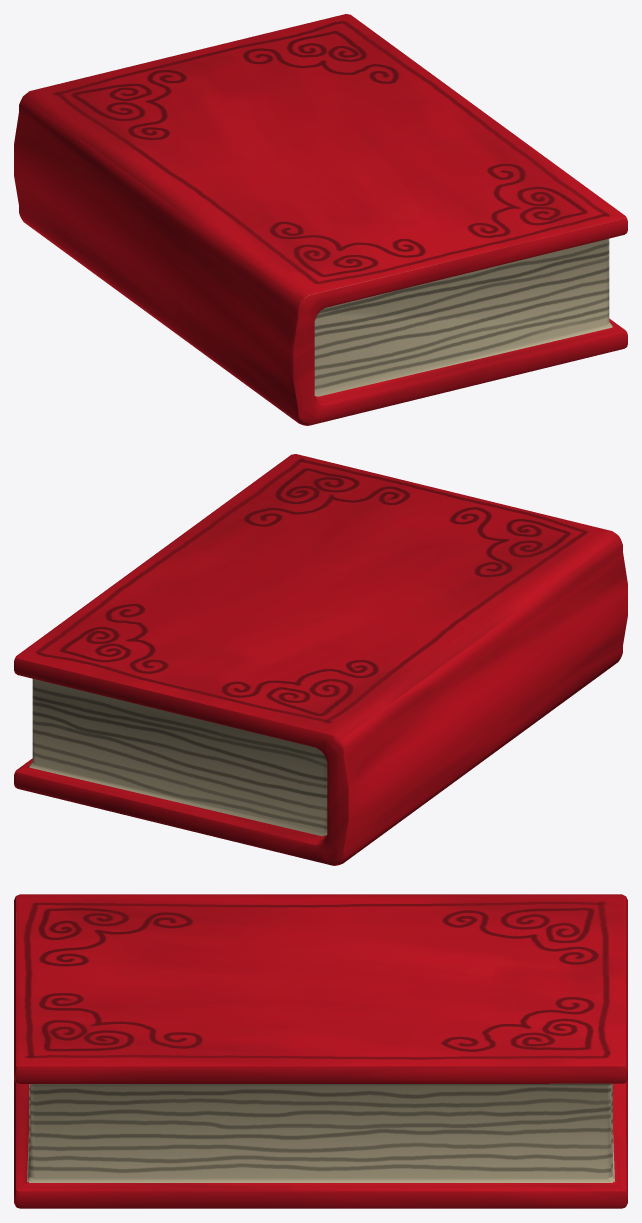
The model's file is red_book.fbx.
The picture shows the model from 3 angles, top to bottom: view 1: azimuth 30°, elevation 25°; view 2: azimuth 150°, elevation 25°; view 3: azimuth 270°, elevation 25°; orthographic projection. The views are drawn at different scales.
Parts seen in each view (by area): view 1: Cube; view 2: Cube; view 3: Cube.
Part boxes in pixels (x1,y1,x2,y2): Cube: (14, 14, 627, 425); Cube: (14, 454, 627, 865); Cube: (14, 894, 627, 1208).
Bounding box in the file's own units: 2083 × 786 × 3003.
Materials: 1 (1 with a texture image).
